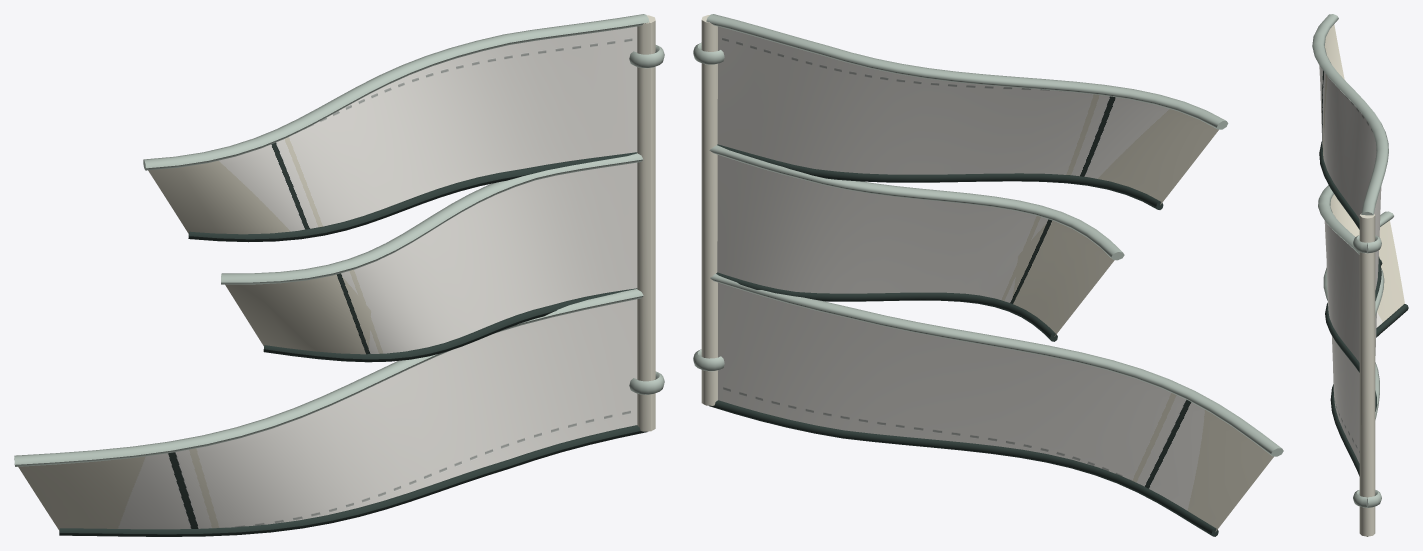
Rendered from Pennant_26_SSR_深緑・銀架.glb.
3 renders of one model, left to right at view 1: azimuth 30°, elevation 25°; view 2: azimuth 150°, elevation 25°; view 3: azimuth 270°, elevation 25°, orthographic. The views are drawn at different scales.
Visible parts, largest first — view 1: Pennant_26_SSR; view 2: Pennant_26_SSR; view 3: Pennant_26_SSR.
Boxes of the visible parts, bbox=[...] form: Pennant_26_SSR: bbox=[14, 14, 664, 536]; Pennant_26_SSR: bbox=[693, 14, 1283, 536]; Pennant_26_SSR: bbox=[1312, 14, 1408, 536].
Bounding box in the file's own units: 0.294 × 0.1867 × 0.0494.
Materials: 3 (3 with a texture image).
